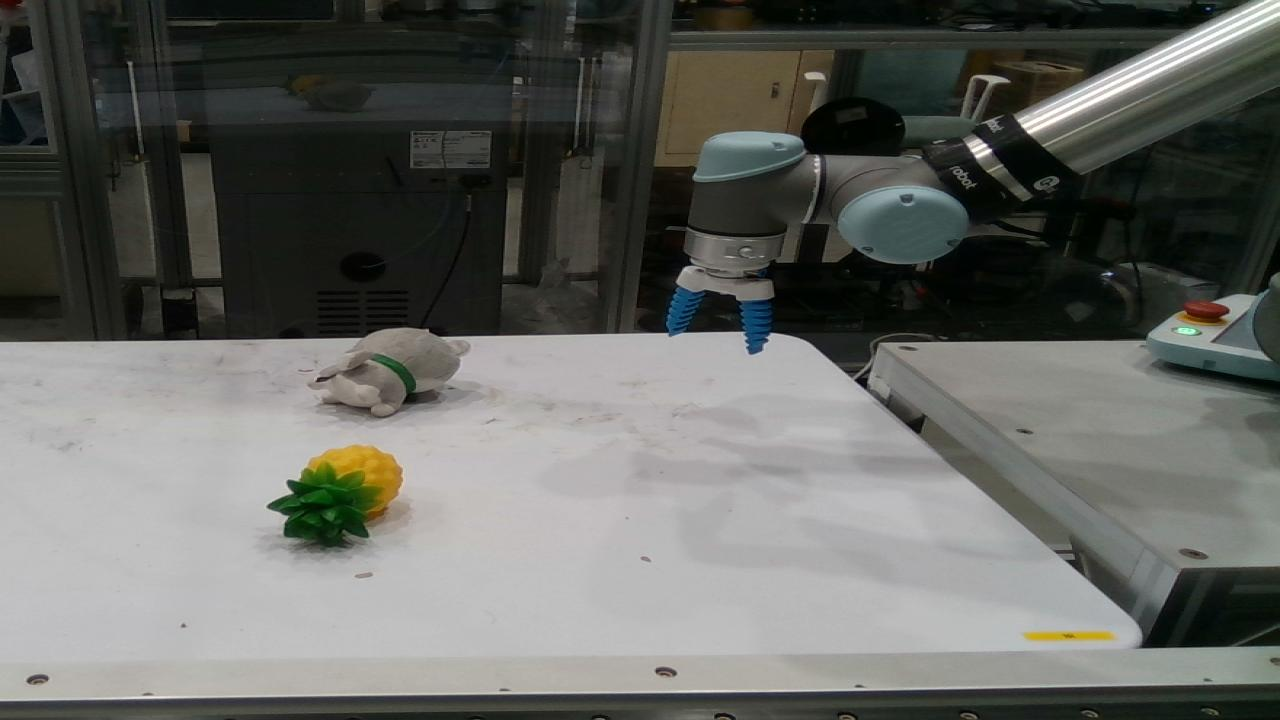UR5: (676, 0, 1279, 304), (1246, 272, 1279, 366)
gripper_left: (668, 285, 705, 336)
gripper_right: (739, 300, 771, 355)
target: (307, 328, 471, 417), (265, 444, 405, 547)
